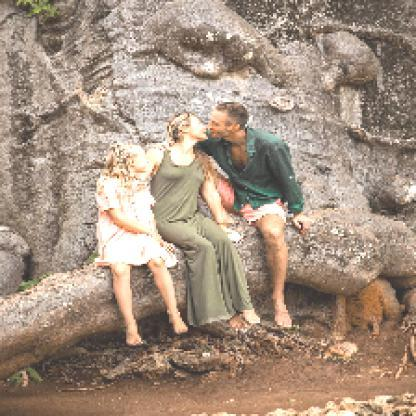child: (95, 147, 190, 348)
